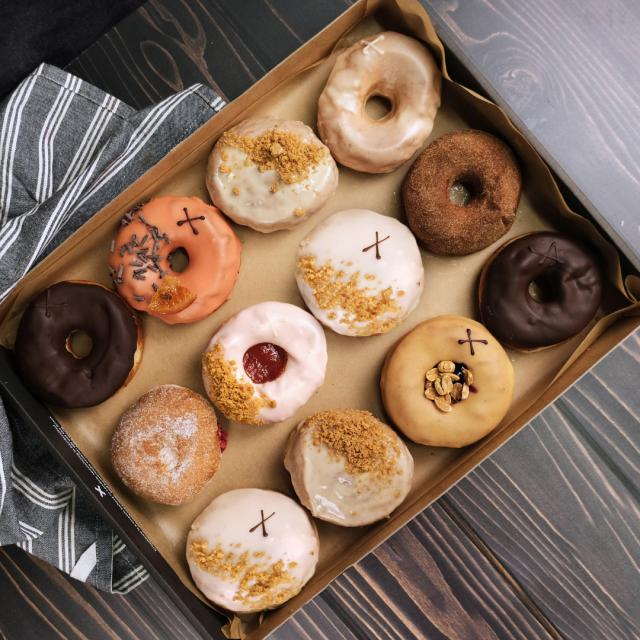donut: (292, 205, 426, 343), (178, 488, 321, 617), (380, 314, 516, 449), (394, 123, 526, 259), (112, 191, 242, 329), (320, 33, 441, 178), (200, 298, 329, 432), (13, 276, 141, 407), (281, 411, 421, 530), (208, 110, 342, 234), (108, 382, 227, 511), (476, 230, 602, 350)
